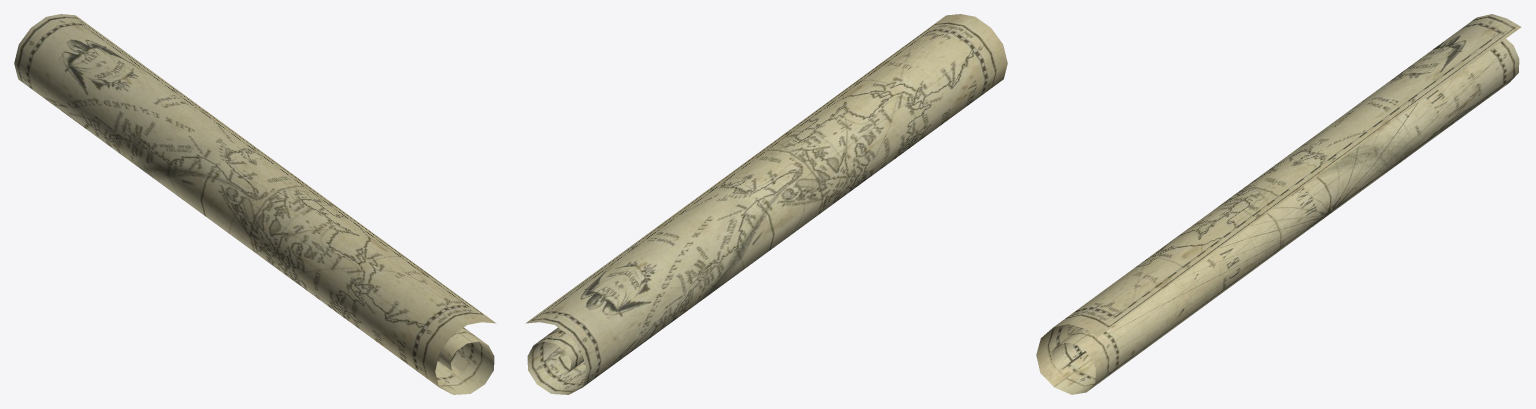
File: Scroll.fbx
The picture shows the model from 3 angles, left to right: view 1: azimuth 30°, elevation 25°; view 2: azimuth 150°, elevation 25°; view 3: azimuth 330°, elevation 25°; orthographic projection.
Parts seen in each view (by area): view 1: pPlane2; view 2: pPlane2; view 3: pPlane2.
Part boxes in pixels (left/top/right/bottom): pPlane2: left=14, top=14, right=496, bottom=394; pPlane2: left=525, top=14, right=1007, bottom=394; pPlane2: left=1036, top=14, right=1521, bottom=394.
Size of the model in its own units: 7.82 by 8.46 by 92.5.
